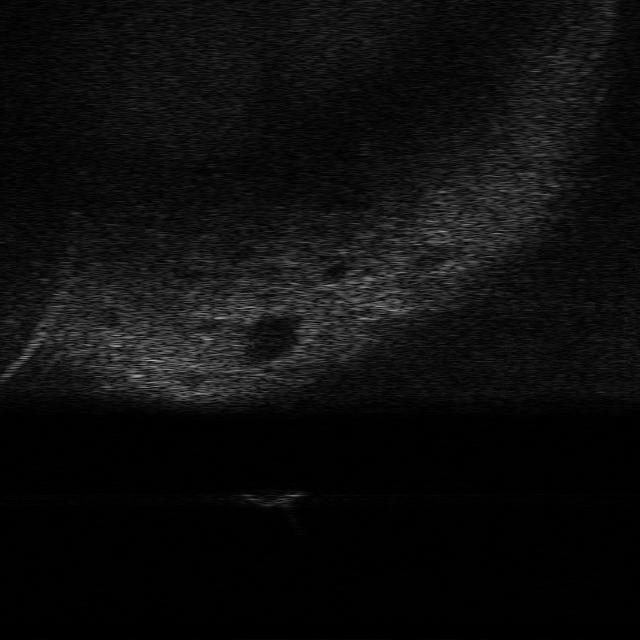cube: (241, 489, 309, 507)
